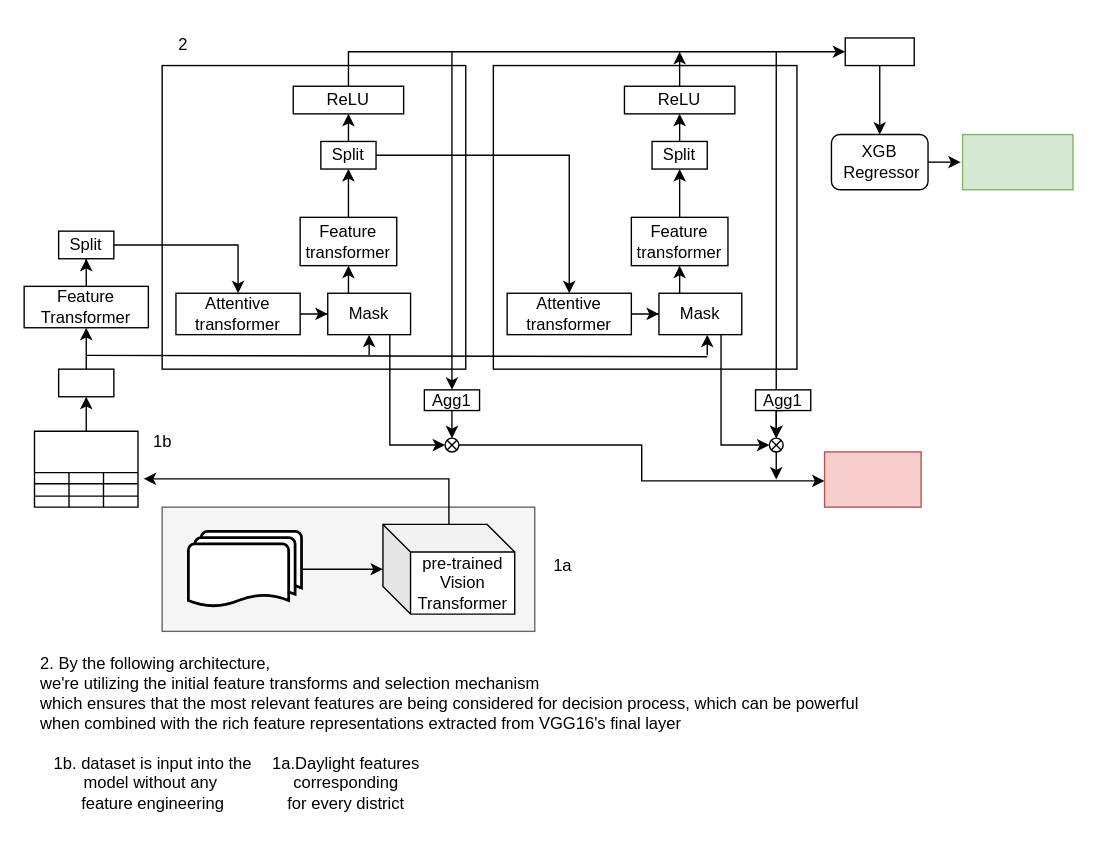
This 1097x847 diagram has some shape labels left out. The shapes that lost their labels are listed below. From the top down, each one's centre as x and y in pixels, then its label:
the point at 879,51: FC
the point at 1017,161: final predictions
the point at 85,382: BN
the point at 85,468: Tabular data
the point at 872,479: Feature attributes
the point at 244,568: Satellite Image data
